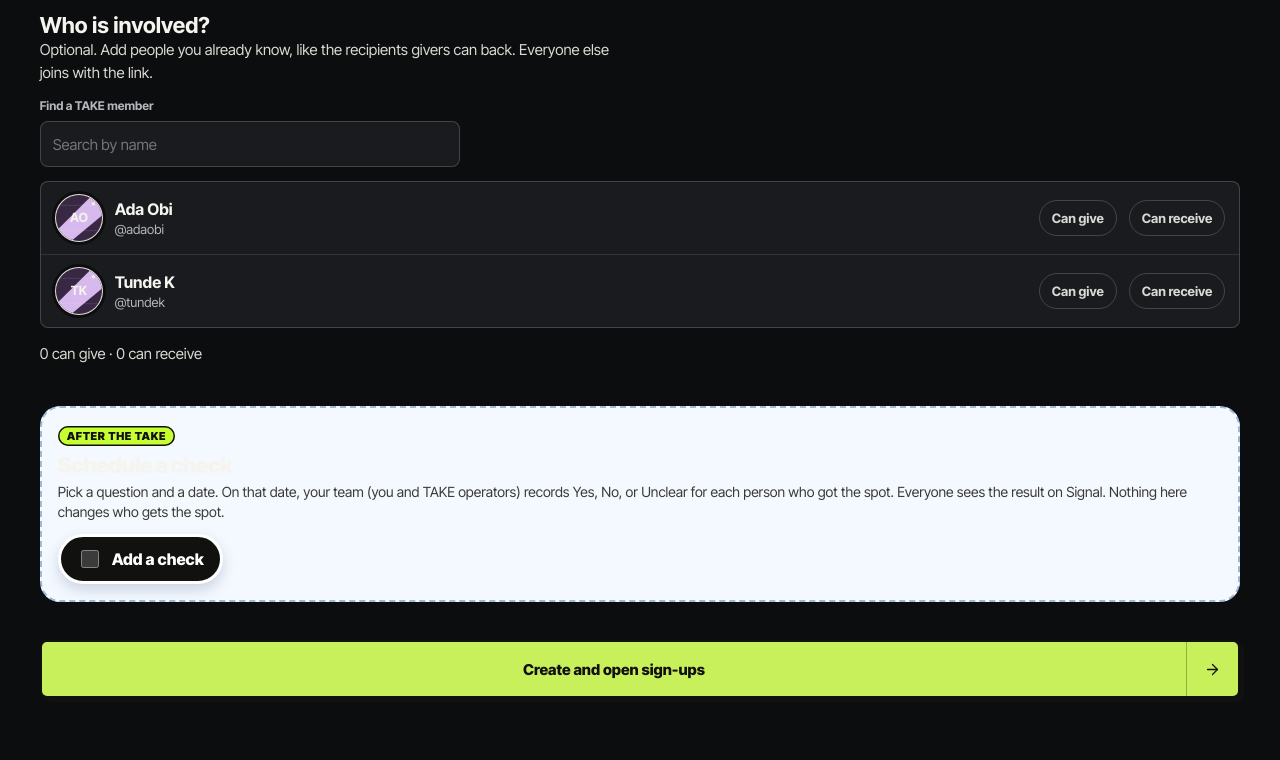
Organize page › shows form problems as an error toast
(page scrolled)
Step 1. Click the button "Create and open sign-ups" → x=640, y=669, box [40,640,1240,698]
(page scrolled)
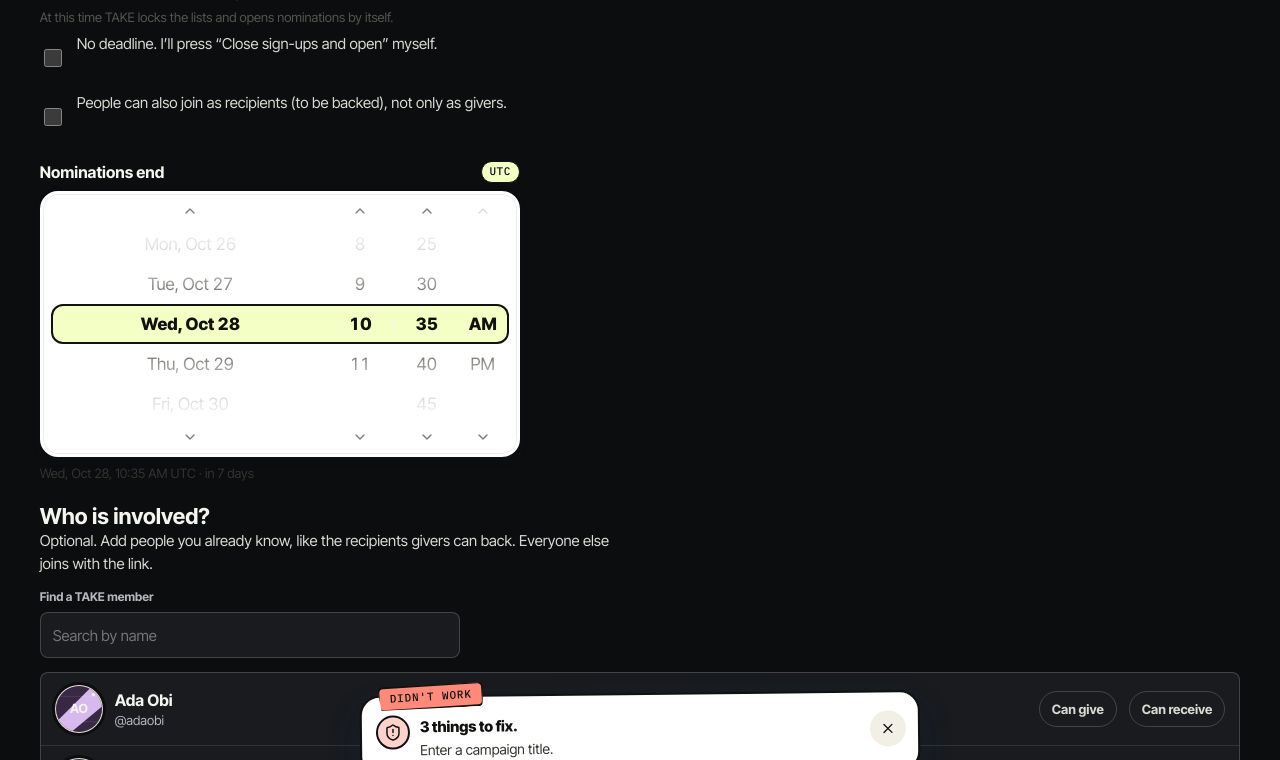
expect the text "3 things to fix." is shown: met, box [420,717,518,737]
